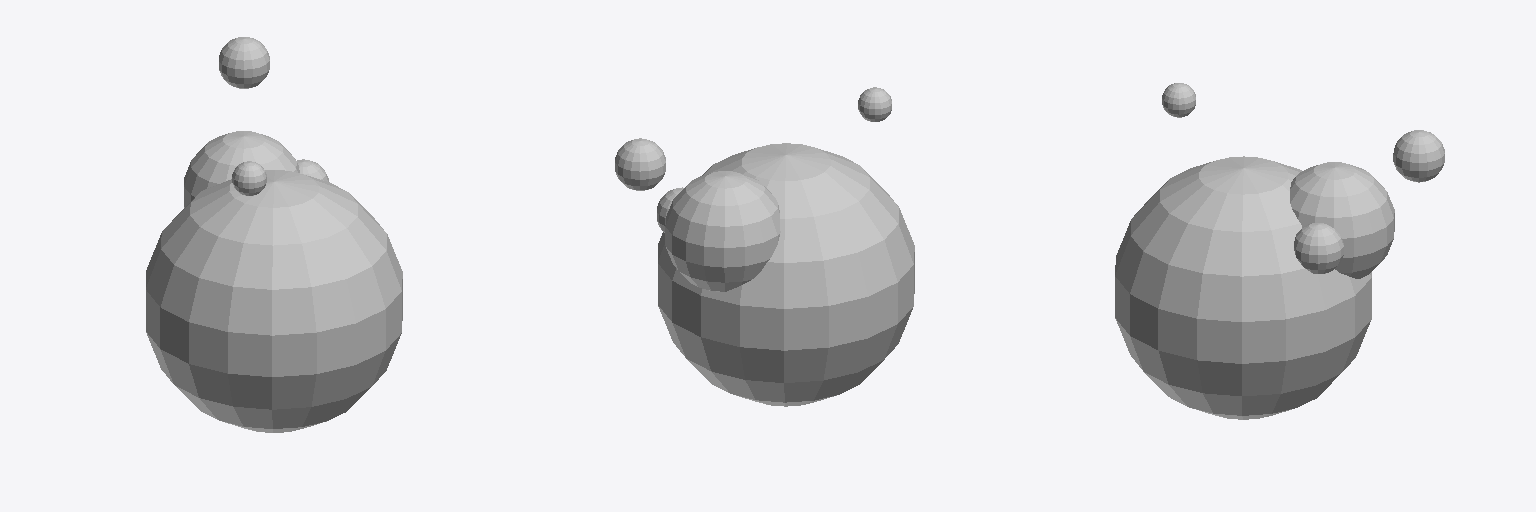
The model's file is BUBBLE.obj.
The picture shows the model from 3 angles: view 1: azimuth 30°, elevation 25°; view 2: azimuth 150°, elevation 25°; view 3: azimuth 270°, elevation 25°; orthographic projection.
Visible parts, largest first — view 1: Sphere; view 2: Sphere; view 3: Sphere.
Boxes of the visible parts, <box> form: Sphere: <box>146,37,402,432</box>; Sphere: <box>615,87,914,406</box>; Sphere: <box>1115,83,1444,419</box>.
Bounding box in the file's own units: 59.08 × 76.1 × 74.82.